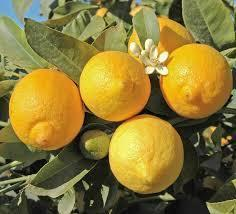lemon: (8, 68, 85, 151), (108, 114, 184, 194), (158, 43, 232, 119), (80, 50, 150, 122), (128, 14, 193, 68)
